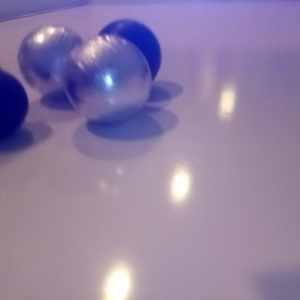alive_ball: (61, 35, 152, 125), (18, 24, 90, 98)
dead_ball: (95, 18, 162, 87), (1, 68, 29, 139)
